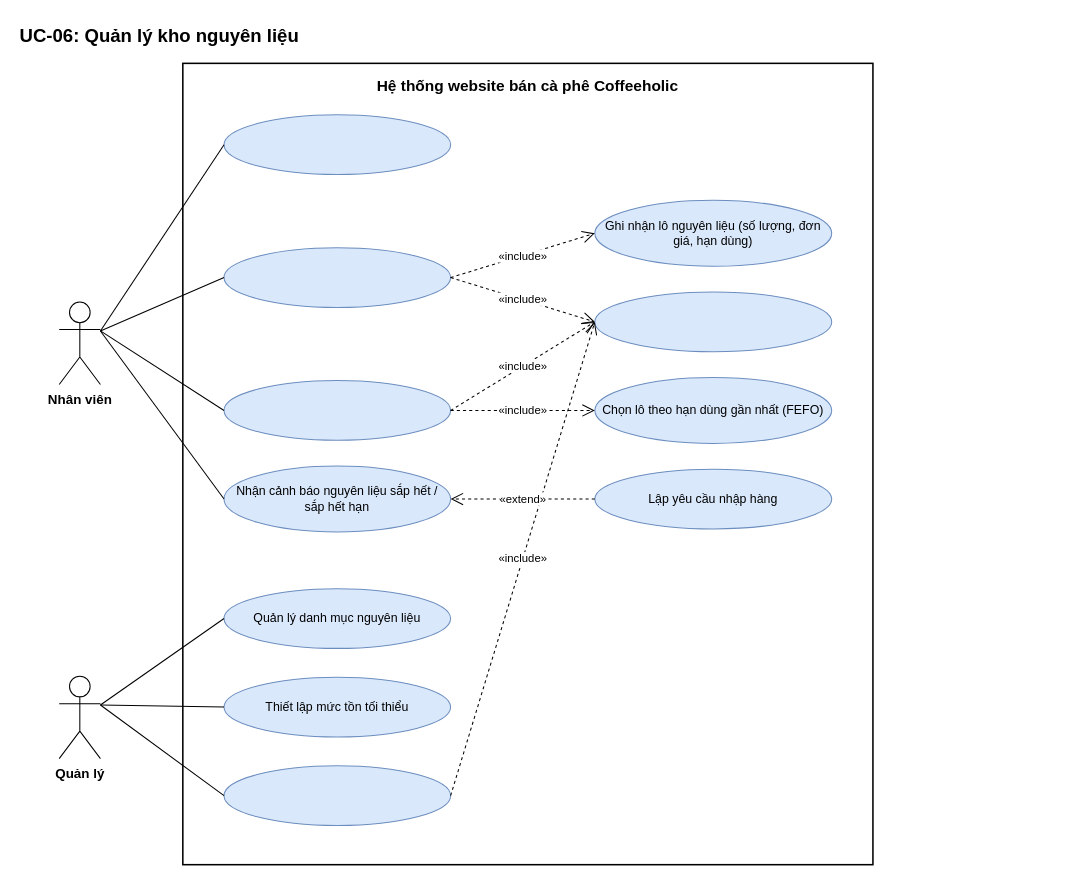
The diagram is 1065 pixels wide and 883 high, and some of its shapes have lost their labels. The shapes that lost their labels are listed below. From the top down, each one's centre as x and y in pixels, then its label:
(x=337, y=144): Xem tồn kho nguyên liệu
(x=337, y=277): Nhập kho nguyên liệu
(x=713, y=321): Ghi nhận giao dịch kho
(x=337, y=410): Xuất kho nguyên liệu
(x=337, y=795): Điều chỉnh tồn kho (kiểm kê)
